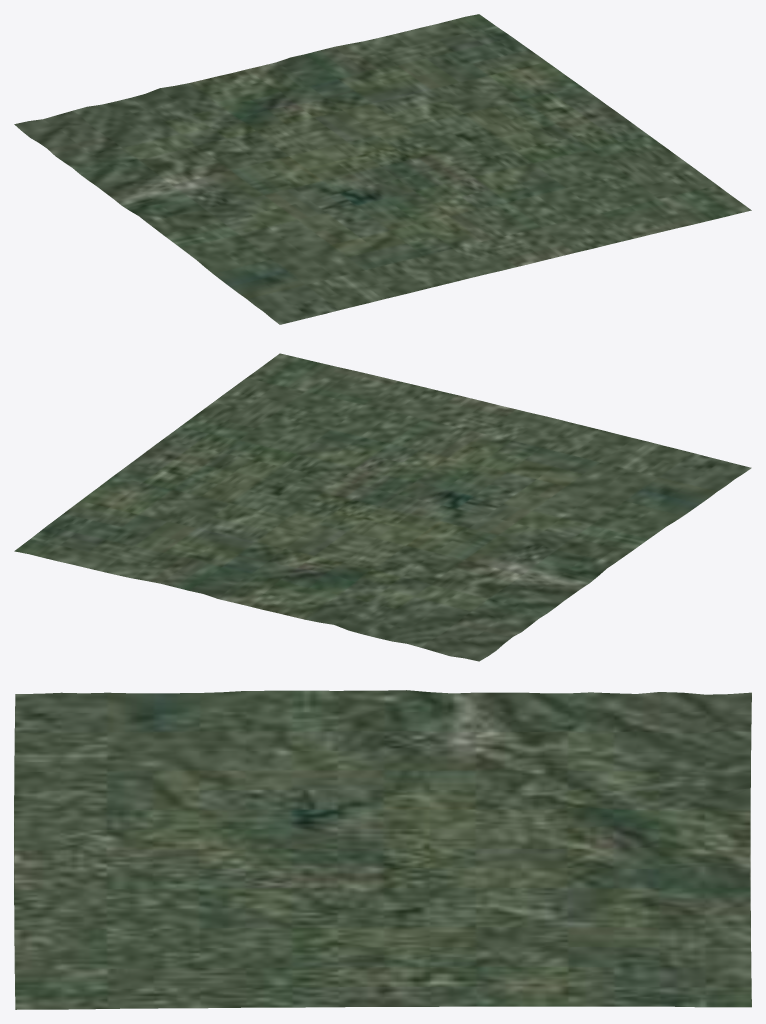
3 views of the same model, one above another, from view 1: azimuth 30°, elevation 25°; view 2: azimuth 150°, elevation 25°; view 3: azimuth 270°, elevation 25° (orthographic). The views are drawn at different scales.
Bounding box in the file's own units: 125830 × 1357 × 124615.
Materials: 1 (1 with a texture image).
